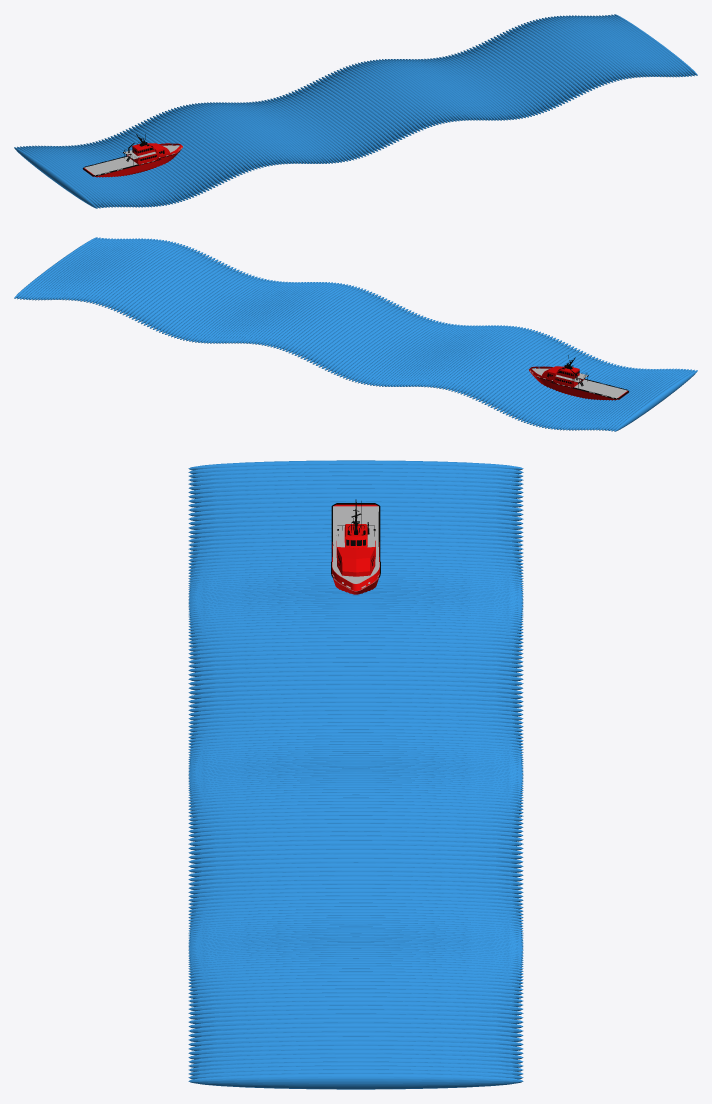
File: boatWave.glb
3 views of the same model, one above another, from view 1: azimuth 30°, elevation 25°; view 2: azimuth 150°, elevation 25°; view 3: azimuth 270°, elevation 25° (orthographic). The views are drawn at different scales.
Visible parts, largest first — view 1: lowPolyCrew, instance_yowjg_0, instance_jjvgd_0, instance_iobun_5, instance_htudf_14, instance_htudf_16, instance_jjvgd_2, instance_htudf_17, instance_iobun_3, instance_iobun_6, instance_htudf_15, instance_htudf_18 (+50 smaller); view 2: lowPolyCrew, instance_yowjg_0, instance_jjvgd_0, instance_iobun_5, instance_htudf_14, instance_htudf_16, instance_jjvgd_2, instance_htudf_17, instance_iobun_3, instance_iobun_6, instance_htudf_15, instance_htudf_18 (+50 smaller); view 3: instance_zvbcv_5, lowPolyCrew, instance_zzwwm_3, instance_zzwwm_5, instance_zzwwm_1, instance_rcnak_1, instance_rcnak_3, instance_omkeu_4, instance_rcnak_2, instance_zzwwm_4, instance_unpyb_0, instance_rcnak_4 (+127 smaller).
Part boxes in pixels (left/top/right/bottom): lowPolyCrew: left=82, top=134, right=183, bottom=177; instance_yowjg_0: left=14, top=147, right=97, bottom=208; instance_jjvgd_0: left=321, top=77, right=405, bottom=138; instance_iobun_5: left=315, top=80, right=399, bottom=141; instance_htudf_14: left=484, top=41, right=568, bottom=102; instance_htudf_16: left=490, top=38, right=574, bottom=99; instance_jjvgd_2: left=327, top=74, right=411, bottom=135; instance_htudf_17: left=493, top=36, right=577, bottom=97; instance_iobun_3: left=309, top=83, right=393, bottom=144; instance_iobun_6: left=318, top=78, right=402, bottom=139; instance_htudf_15: left=487, top=39, right=570, bottom=101; instance_htudf_18: left=496, top=35, right=580, bottom=96; lowPolyCrew: left=528, top=355, right=629, bottom=400; instance_yowjg_0: left=614, top=370, right=697, bottom=431; instance_jjvgd_0: left=306, top=300, right=390, bottom=361; instance_iobun_5: left=312, top=303, right=396, bottom=364; instance_htudf_14: left=143, top=264, right=227, bottom=325; instance_htudf_16: left=137, top=261, right=221, bottom=322; instance_jjvgd_2: left=300, top=297, right=384, bottom=358; instance_htudf_17: left=134, top=259, right=218, bottom=320; instance_iobun_3: left=318, top=306, right=402, bottom=367; instance_iobun_6: left=309, top=301, right=393, bottom=362; instance_htudf_15: left=141, top=262, right=224, bottom=324; instance_htudf_18: left=131, top=258, right=215, bottom=319; instance_zvbcv_5: left=188, top=1073, right=523, bottom=1089; lowPolyCrew: left=331, top=499, right=380, bottom=594; instance_zzwwm_3: left=188, top=1022, right=523, bottom=1033; instance_zzwwm_5: left=188, top=1031, right=523, bottom=1041; instance_zzwwm_1: left=188, top=1013, right=523, bottom=1024; instance_rcnak_1: left=188, top=844, right=523, bottom=854; instance_rcnak_3: left=188, top=853, right=523, bottom=863; instance_omkeu_4: left=188, top=675, right=523, bottom=685; instance_rcnak_2: left=188, top=849, right=523, bottom=859; instance_zzwwm_4: left=188, top=1027, right=523, bottom=1037; instance_unpyb_0: left=188, top=680, right=523, bottom=690; instance_rcnak_4: left=188, top=858, right=523, bottom=868.
Size of the model in its own units: 54.84 by 3.74 by 13.16.
